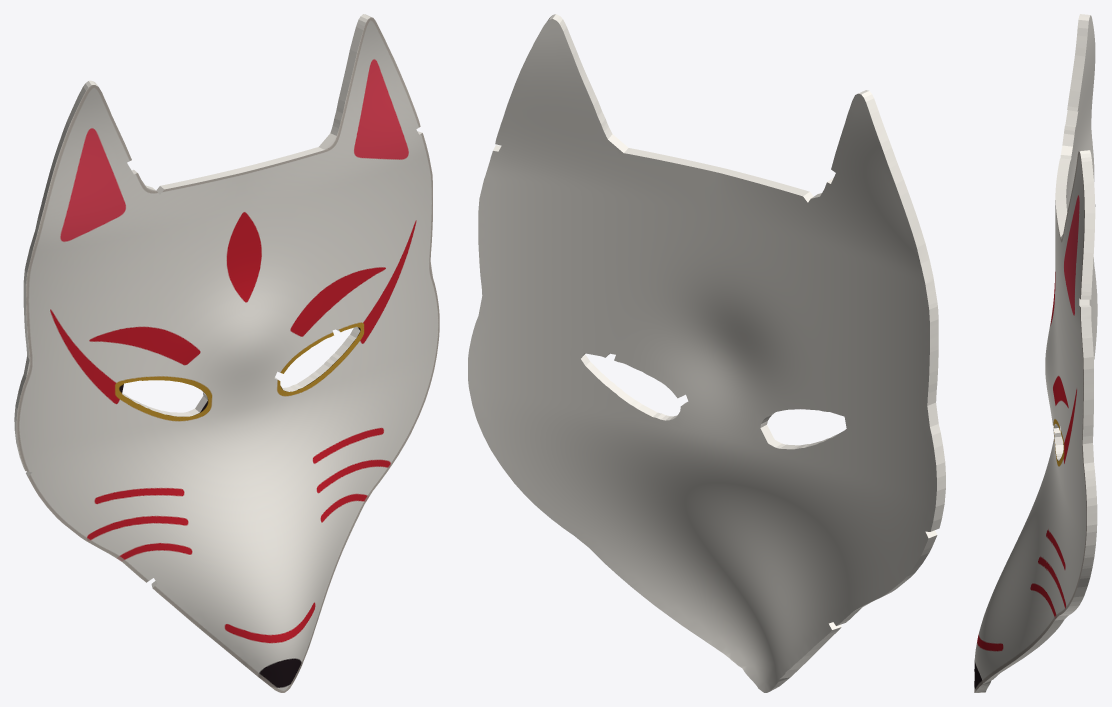
Rendered from 狐面_kitsune.glb.
3 renders of one model, left to right at view 1: azimuth 30°, elevation 25°; view 2: azimuth 150°, elevation 25°; view 3: azimuth 270°, elevation 25°, orthographic. The views are drawn at different scales.
Visible parts, largest first — view 1: FoxMask; view 2: FoxMask; view 3: FoxMask.
Boxes of the visible parts, box(x1,y1,x2,y2) form: FoxMask: box(14, 14, 439, 692); FoxMask: box(468, 14, 945, 692); FoxMask: box(974, 14, 1097, 692).
Bounding box in the file's own units: 0.1833 × 0.2502 × 0.0458.
Materials: 1 (1 with a texture image).
